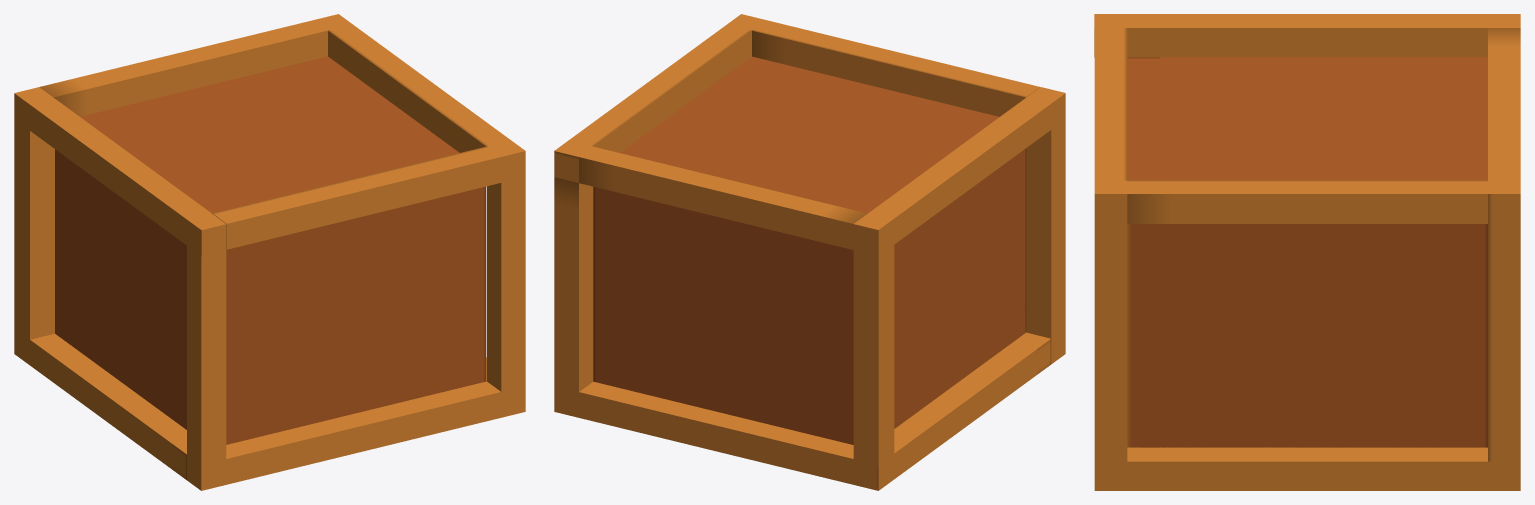
Rendered from kutu.obj.
3 renders of one model, left to right at view 1: azimuth 30°, elevation 25°; view 2: azimuth 150°, elevation 25°; view 3: azimuth 270°, elevation 25°, orthographic. The views are drawn at different scales.
Parts seen in each view (by area): view 1: cube; view 2: cube; view 3: cube.
Part boxes in pixels (x1,y1,x2,y2): cube: (14, 14, 525, 490); cube: (554, 14, 1065, 490); cube: (1094, 14, 1520, 490).
Bounding box in the file's own units: 0.8125 × 0.6244 × 0.8125.
